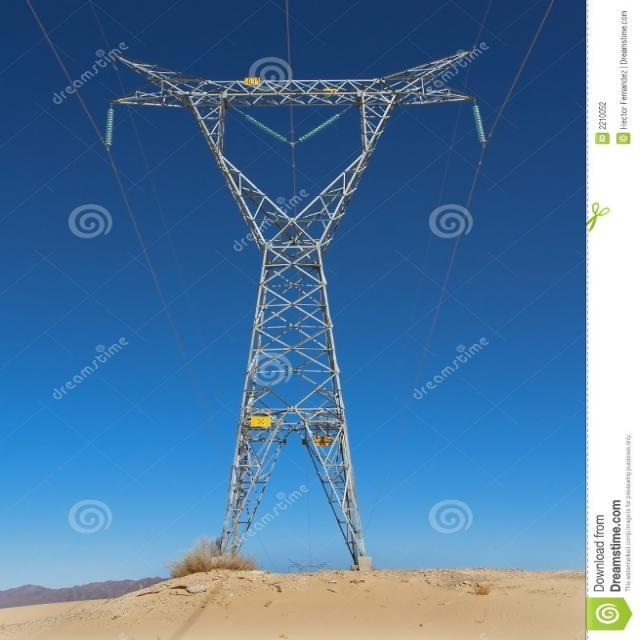non-critical vegetation: (80, 49, 499, 564)
